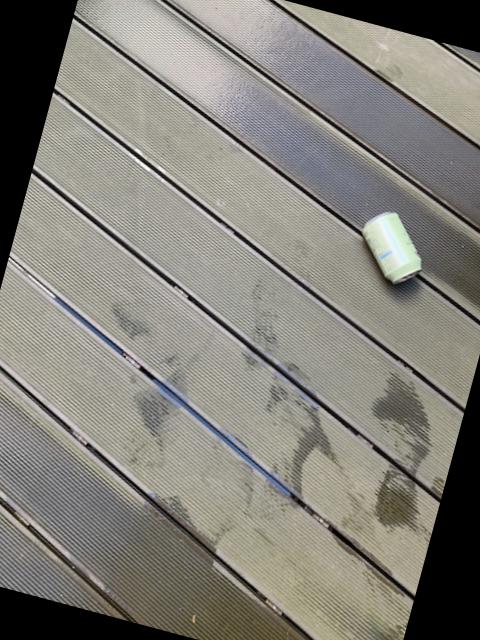metal: (361, 213, 421, 283)
